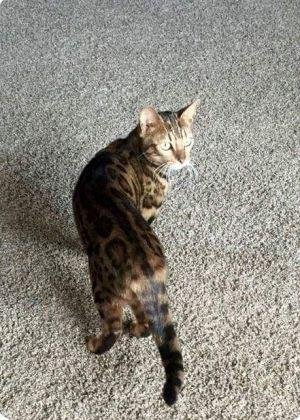bengal: (137, 98, 208, 173)
